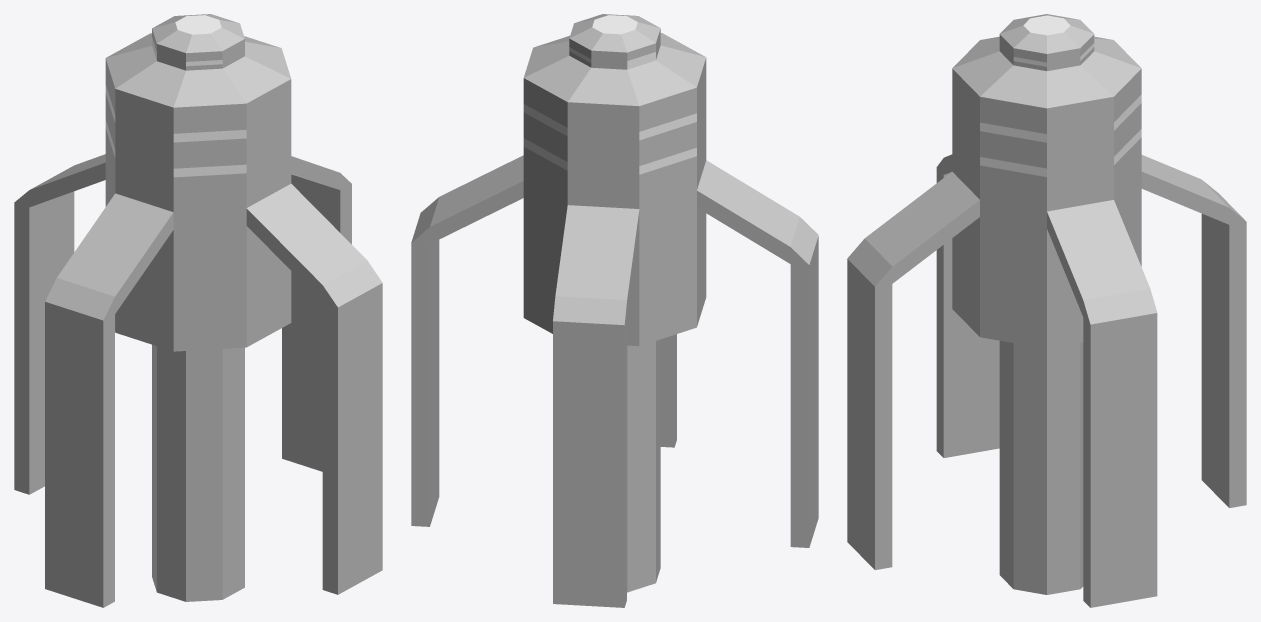
The model's file is Scranton-Reality-Anchors-Type-0.obj.
3 renders of one model, left to right at view 1: azimuth 30°, elevation 25°; view 2: azimuth 150°, elevation 25°; view 3: azimuth 270°, elevation 25°, orthographic.
Visible parts, largest first — view 1: Scranton-Reality-Anchors-Type-0; view 2: Scranton-Reality-Anchors-Type-0; view 3: Scranton-Reality-Anchors-Type-0.
Boxes of the visible parts, x1,y1,x2,y2 form: Scranton-Reality-Anchors-Type-0: [14, 14, 382, 607]; Scranton-Reality-Anchors-Type-0: [411, 14, 818, 607]; Scranton-Reality-Anchors-Type-0: [847, 14, 1246, 607].
Size of the model in its own units: 2.11 by 3.2 by 2.11.
